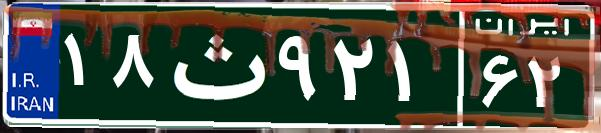1: (385, 28, 445, 110), (57, 26, 110, 107)
2: (330, 28, 385, 110), (525, 38, 570, 115)
6: (475, 38, 525, 113)
8: (110, 28, 158, 105)
9: (273, 28, 330, 110)
ث: (158, 15, 273, 115)
